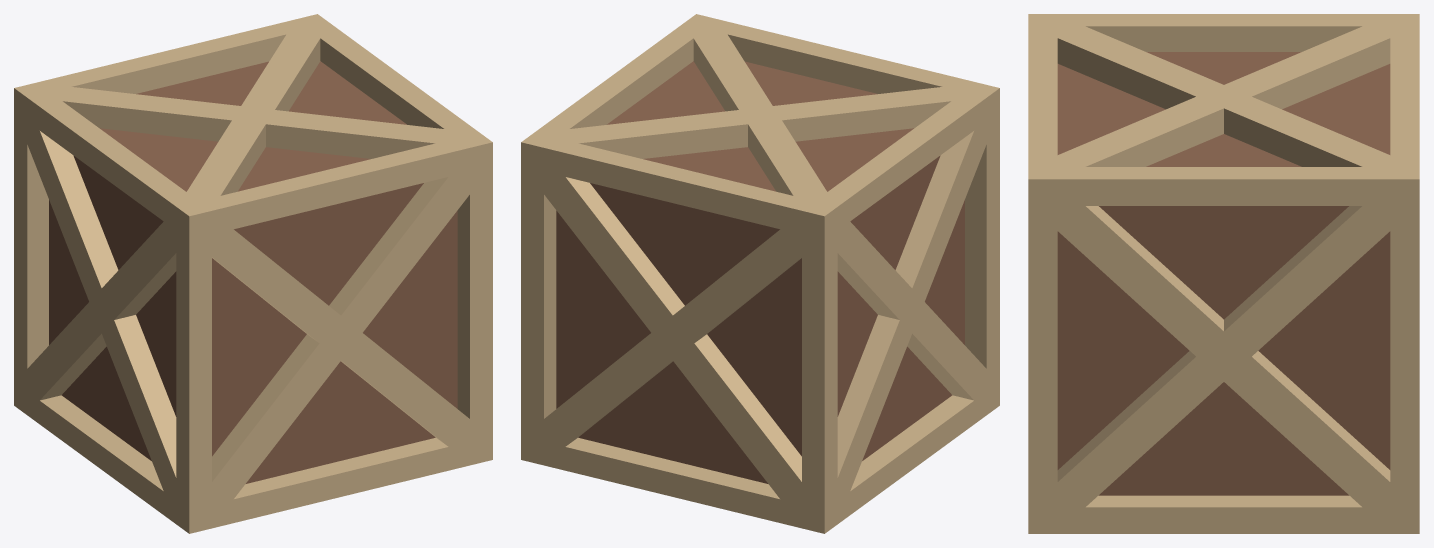
File: Crate2.fbx
The picture shows the model from 3 angles, left to right: view 1: azimuth 30°, elevation 25°; view 2: azimuth 150°, elevation 25°; view 3: azimuth 270°, elevation 25°; orthographic projection. The views are drawn at different scales.
Visible parts, largest first — view 1: Cube; view 2: Cube; view 3: Cube.
Part boxes in pixels (<box>): Cube: <box>14,14,492,533</box>; Cube: <box>521,14,999,533</box>; Cube: <box>1028,14,1419,533</box>.
Bounding box in the file's own units: 1.25 × 1.25 × 1.25.
